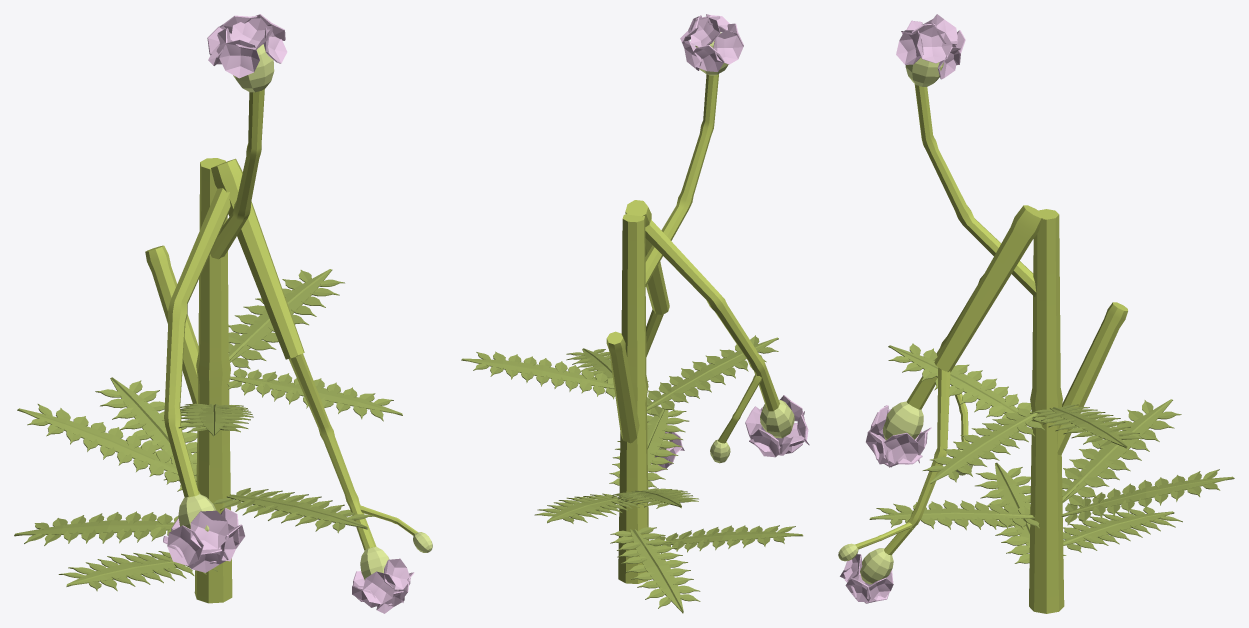
File: dead_canadathistle.fbx
The picture shows the model from 3 angles, left to right: view 1: azimuth 30°, elevation 25°; view 2: azimuth 150°, elevation 25°; view 3: azimuth 270°, elevation 25°; orthographic projection. The views are drawn at different scales.
Visible parts, largest first — view 1: CanadaThistle_dead; view 2: CanadaThistle_dead; view 3: CanadaThistle_dead.
Part boxes in pixels (bbox=[...]): CanadaThistle_dead: bbox=[14, 14, 432, 613]; CanadaThistle_dead: bbox=[461, 14, 809, 613]; CanadaThistle_dead: bbox=[838, 14, 1234, 613].
Size of the model in its own units: 2.6 by 4.65 by 2.9.
